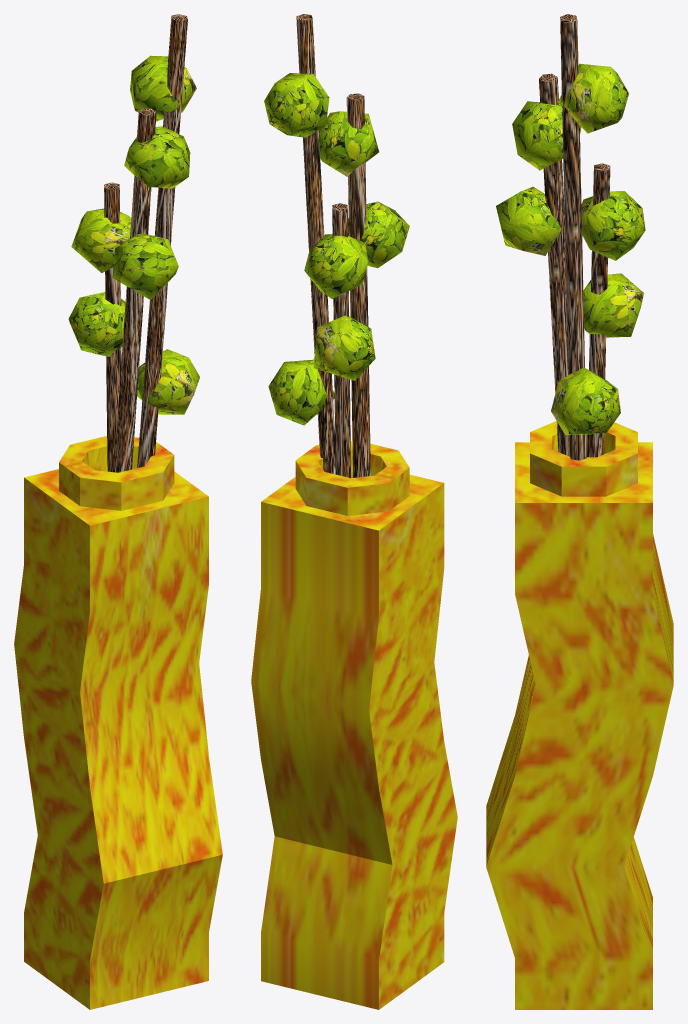
Rendered from weegle pot3.FBX.
3 renders of one model, left to right at view 1: azimuth 30°, elevation 25°; view 2: azimuth 150°, elevation 25°; view 3: azimuth 270°, elevation 25°, orthographic. The views are drawn at different scales.
Parts seen in each view (by area): view 1: Box001, Cylinder001, Cylinder003, Sphere002, Sphere004, Sphere003, Cylinder002, Sphere006, Sphere005, Sphere001; view 2: Box001, Cylinder001, Cylinder003, Sphere006, Sphere003, Sphere001, Sphere005, Sphere004, Cylinder002, Sphere002; view 3: Box001, Cylinder001, Cylinder003, Sphere005, Sphere001, Sphere006, Sphere002, Sphere003, Sphere004, Cylinder002.
Part boxes in pixels (x1,y1,x2,y2): Box001: (14, 436, 222, 1009); Cylinder001: (137, 14, 187, 467); Cylinder003: (114, 108, 156, 472); Sphere002: (112, 233, 178, 299); Sphere004: (124, 126, 190, 188); Sphere003: (68, 292, 125, 356); Cylinder002: (104, 182, 121, 472); Sphere006: (130, 55, 196, 121); Sphere005: (137, 349, 199, 414); Sphere001: (71, 208, 131, 272); Box001: (251, 441, 457, 1009); Cylinder001: (296, 14, 335, 474); Cylinder003: (346, 93, 370, 477); Sphere006: (264, 73, 329, 137); Sphere003: (313, 315, 375, 380); Sphere001: (304, 233, 368, 298); Sphere005: (268, 359, 334, 425); Sphere004: (318, 111, 379, 176); Cylinder002: (332, 203, 350, 478); Sphere002: (348, 201, 409, 268); Box001: (486, 421, 673, 1009); Cylinder001: (560, 14, 586, 460); Cylinder003: (539, 73, 569, 456); Sphere005: (551, 367, 620, 434); Sphere001: (581, 191, 645, 260); Sphere006: (557, 63, 629, 133); Sphere002: (496, 186, 561, 255); Sphere003: (583, 273, 644, 337); Sphere004: (512, 101, 581, 170); Cylinder002: (587, 163, 610, 457).
Size of the model in its own units: 263 by 1712 by 294.
Materials: 3 (3 with a texture image).
